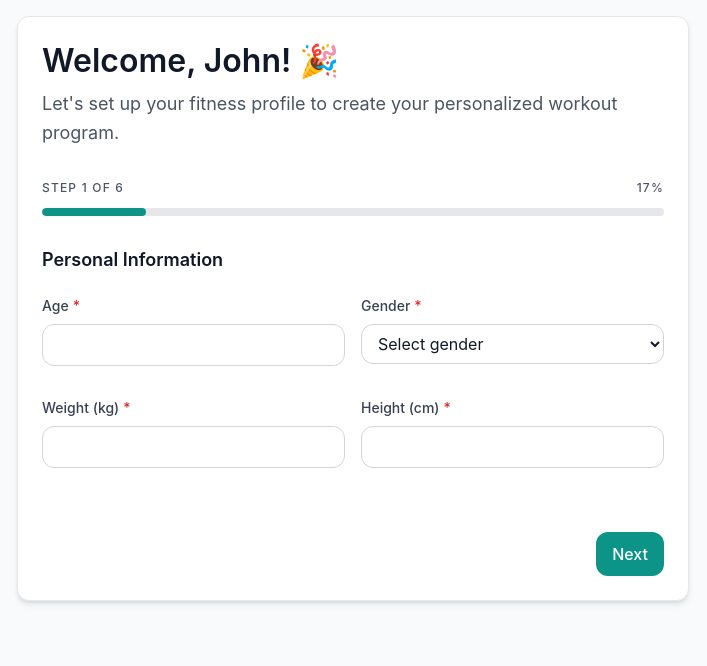
OnboardingPage › goal-mix sliders › should keep the goal-mix section collapsed by default
Type "30" into the number field labelled "Age*".
click(194, 345); type("30")  # box x1=42 y1=324 x2=345 y2=366
Select "Male" in the dropdown labelled "Gender *" at (512, 344), box x1=361 y1=324 x2=664 y2=364
Type "75.5" into the number field labelled "Weight (kg)*".
click(194, 447); type("75.5")  # box x1=42 y1=426 x2=345 y2=468
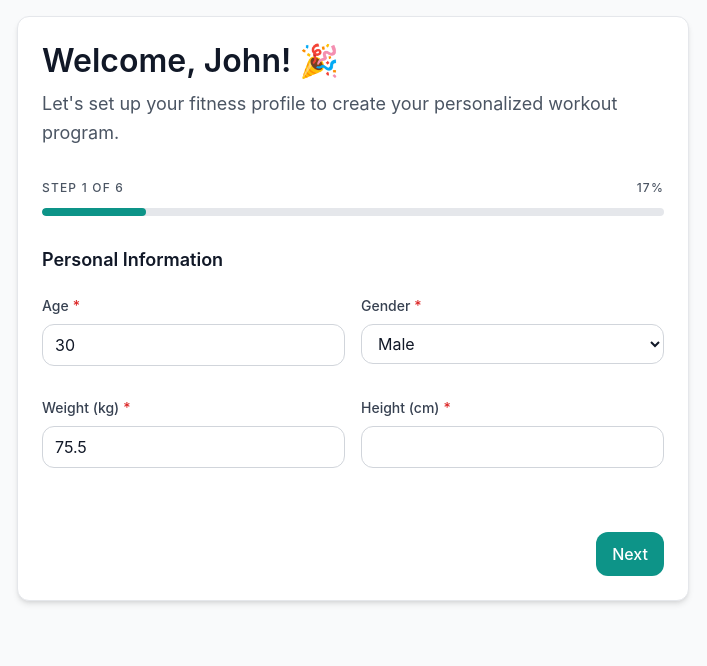
Type "180" into the number field labelled "Height (cm)*".
click(512, 447); type("180")  # box x1=361 y1=426 x2=664 y2=468
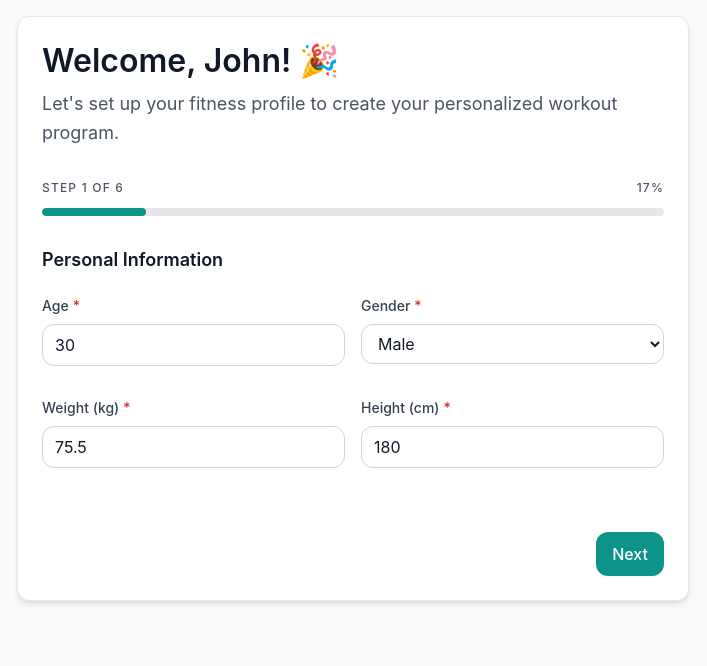
Click the button "Next".
click(630, 554)  # box x1=596 y1=532 x2=664 y2=576
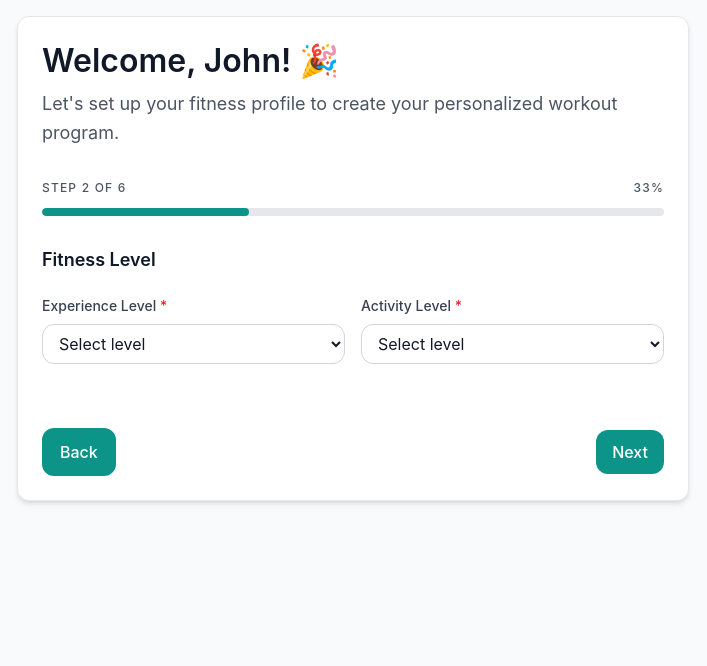
expect the heading "Fitness Level" is shown: met, box x1=42 y1=248 x2=156 y2=270
Select "Intermediate" in the dropdown labelled "Experience Level *" at (194, 344), box x1=42 y1=324 x2=345 y2=364
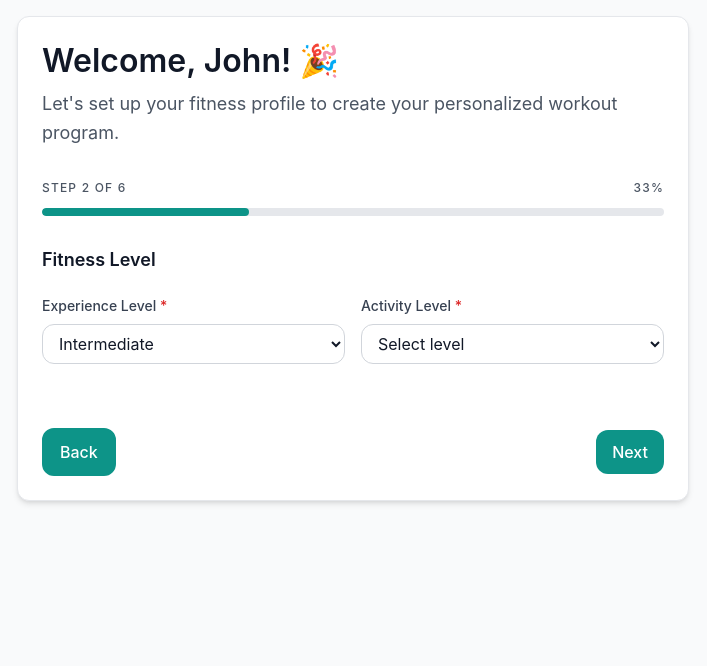
Select "Moderately Active" in the dropdown labelled "Activity Level *" at (512, 344), box x1=361 y1=324 x2=664 y2=364
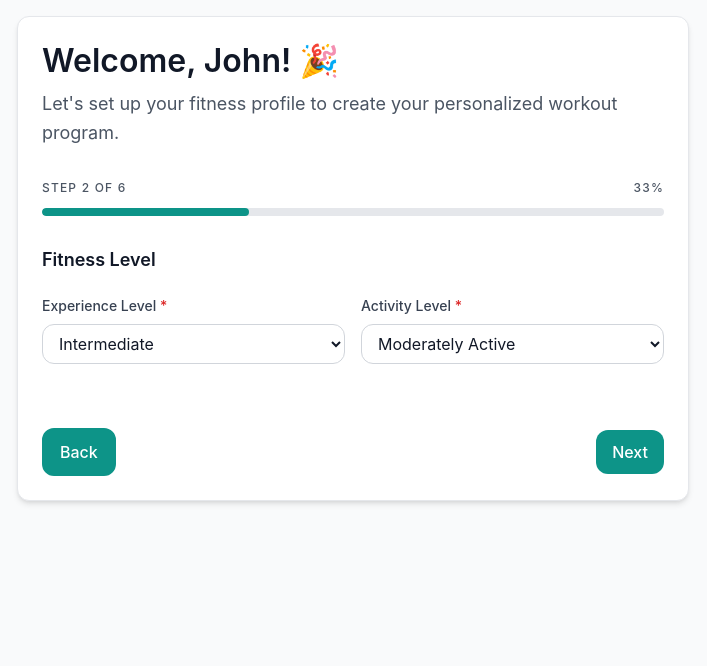
Click the button "Next".
click(630, 452)  # box x1=596 y1=430 x2=664 y2=474
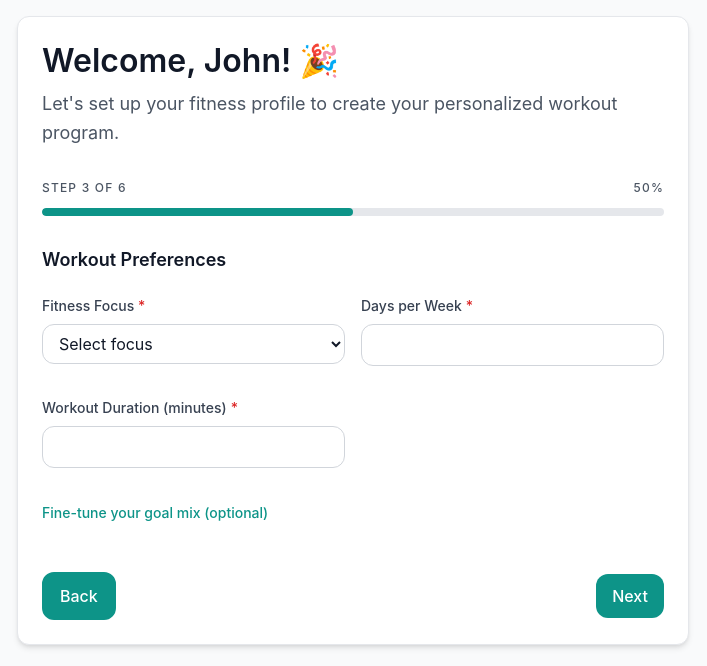
expect the heading "Workout Preferences" is shown: met, box x1=42 y1=248 x2=226 y2=270
expect the button "Fine-tune your goal mix (optional)" is shown: met, box x1=42 y1=503 x2=268 y2=523
